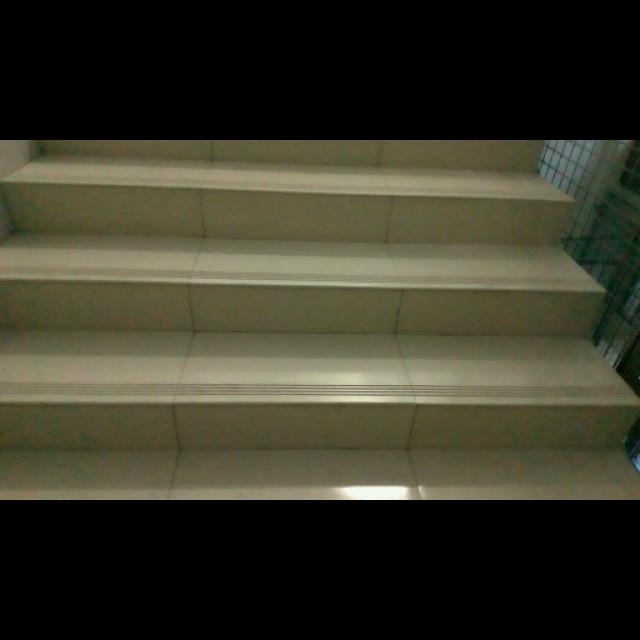stair: (0, 141, 638, 491)
